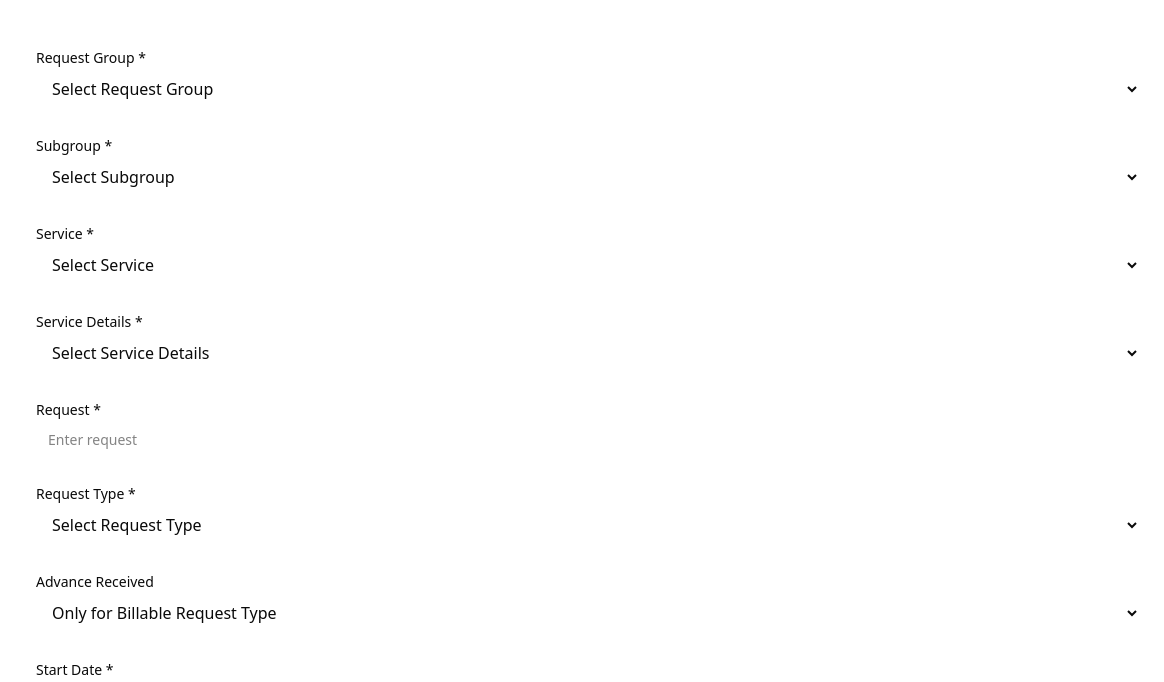
Scenario: AddNewRequestContent › Project/Proposal ID Field › enables when request type is selected
This screenshot has width=1164, height=682.
Select "Non-Billable" in the dropdown labelled "Request Type *" at point(588, 525), box 36,505 -> 1140,545
(page scrolled)
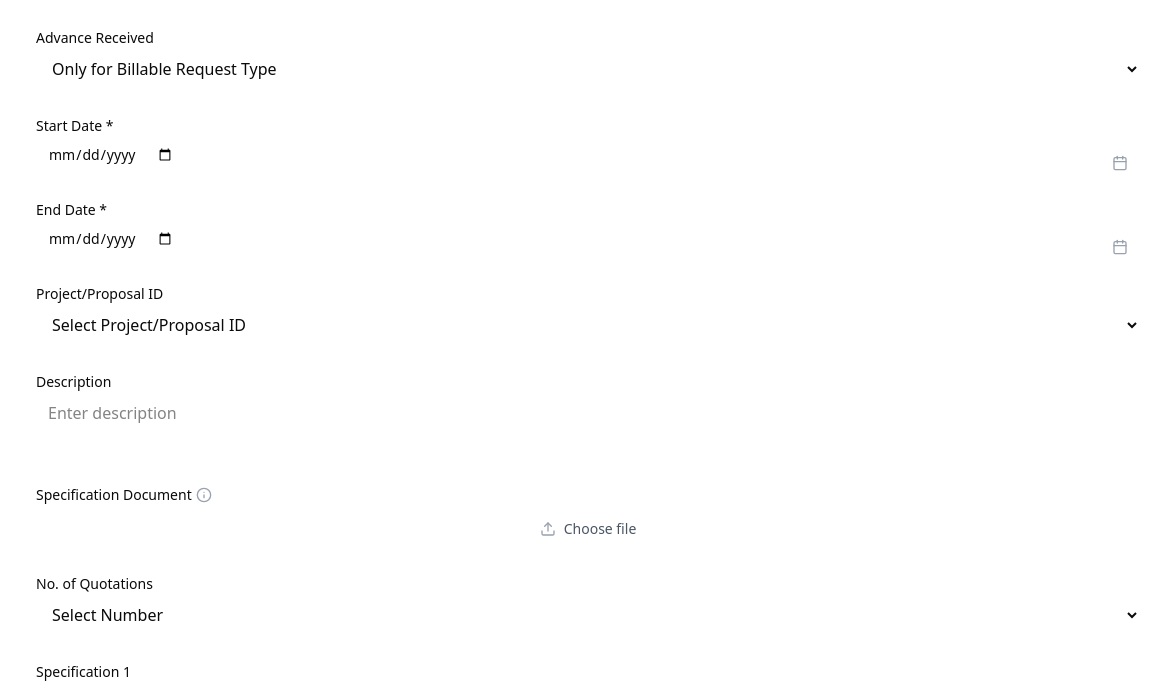
expect the dropdown labelled "Project/Proposal ID" is enabled: met, box 36,305 -> 1140,345
